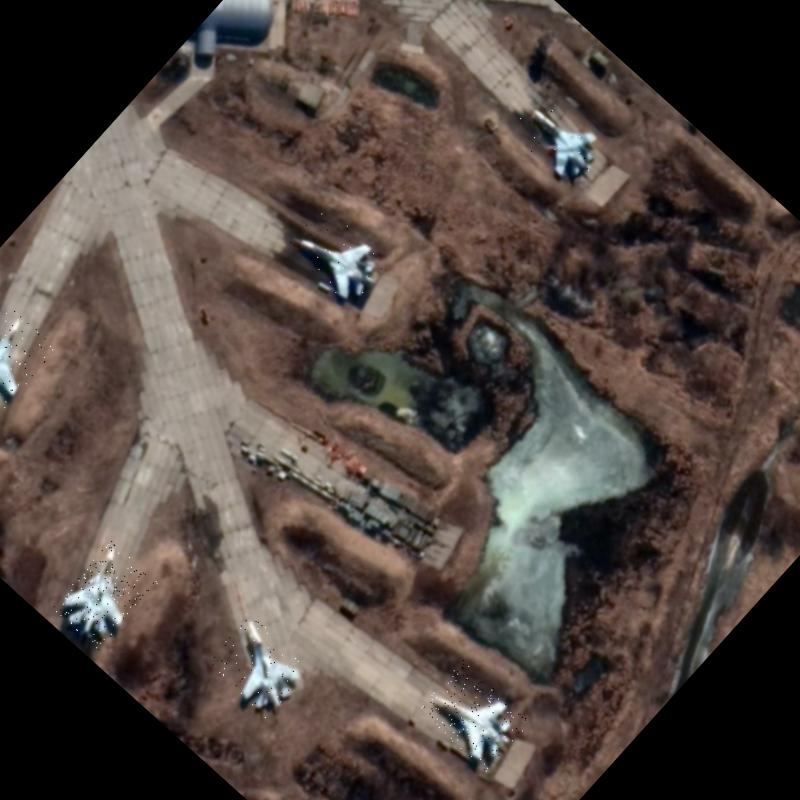A1: (280, 198, 394, 310), (417, 660, 531, 772), (200, 612, 314, 724), (504, 85, 613, 192), (0, 303, 57, 418)
A19: (50, 540, 158, 650)
